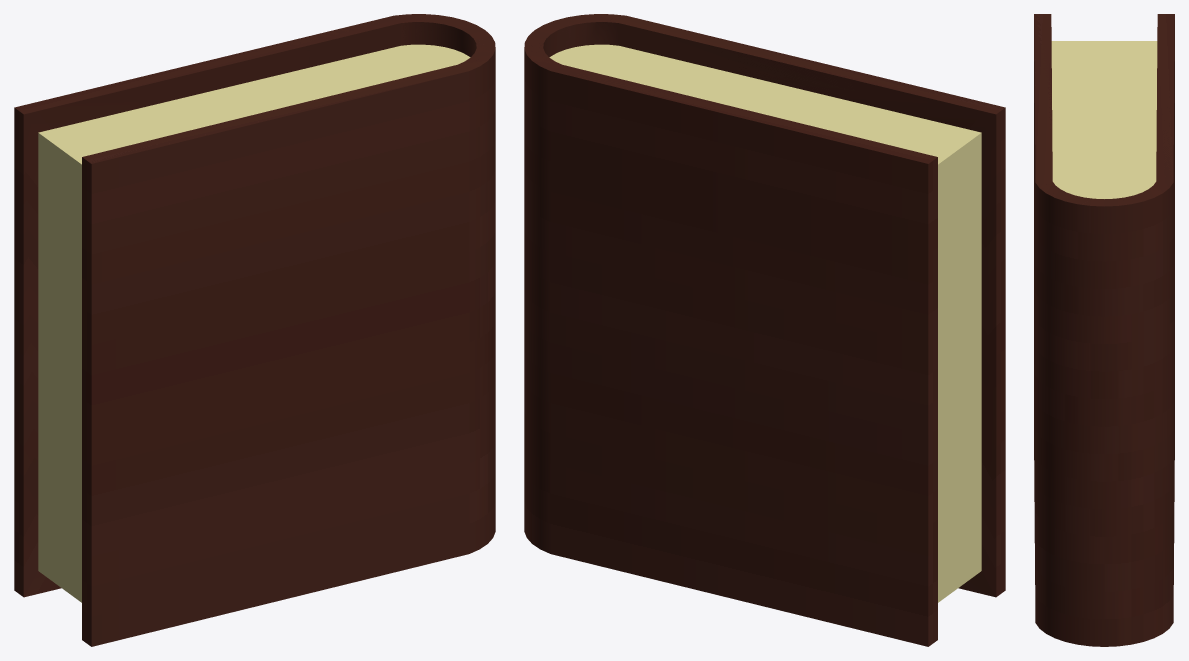
Rendered from book_brown.glb.
3 renders of one model, left to right at view 1: azimuth 30°, elevation 25°; view 2: azimuth 150°, elevation 25°; view 3: azimuth 270°, elevation 25°, orthographic. The views are drawn at different scales.
Visible parts, largest first — view 1: book_brown; view 2: book_brown; view 3: book_brown.
Part boxes in pixels (x1,y1,x2,y2): book_brown: (14, 14, 495, 646); book_brown: (524, 14, 1005, 646); book_brown: (1034, 14, 1174, 646).
Bounding box in the file's own units: 0.5181 × 0.5528 × 0.1601.
2 materials, 1 textured.
